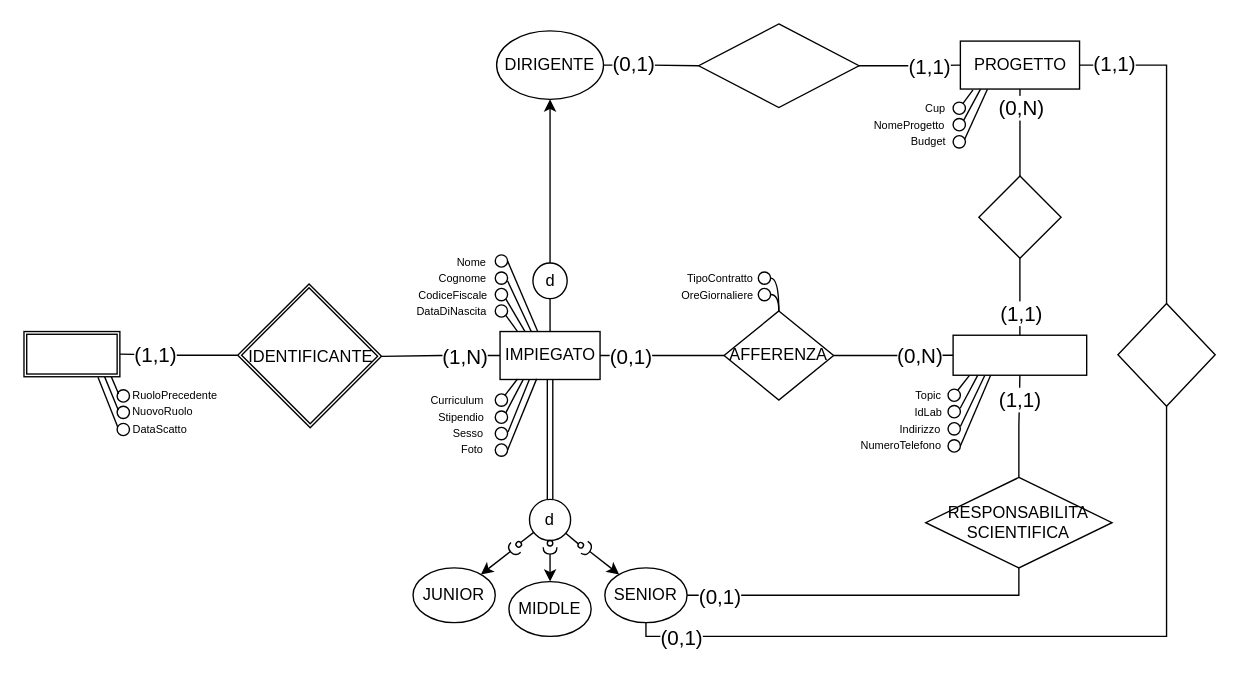
The diagram is 1240 pixels wide and 673 high, and some of its shapes have lost their labels. Here are the shapes that lost their labels. From the top down, the centre of each, then its label:
At [778,65]: "RESPONSABILITA".
At [1019,216]: "SVOLGE".
At [71,353]: "STORICO".
At [1019,354]: "LABORATORIO".
At [1166,354]: "REFERNTE".
